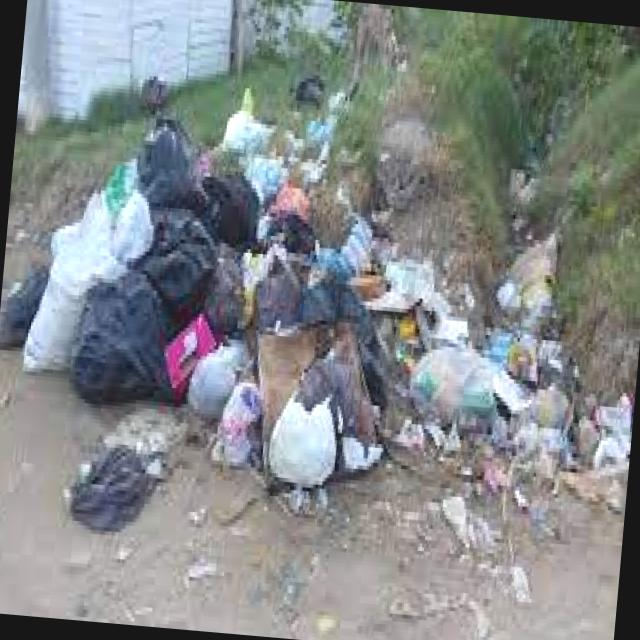garbage: (0, 87, 640, 577)
